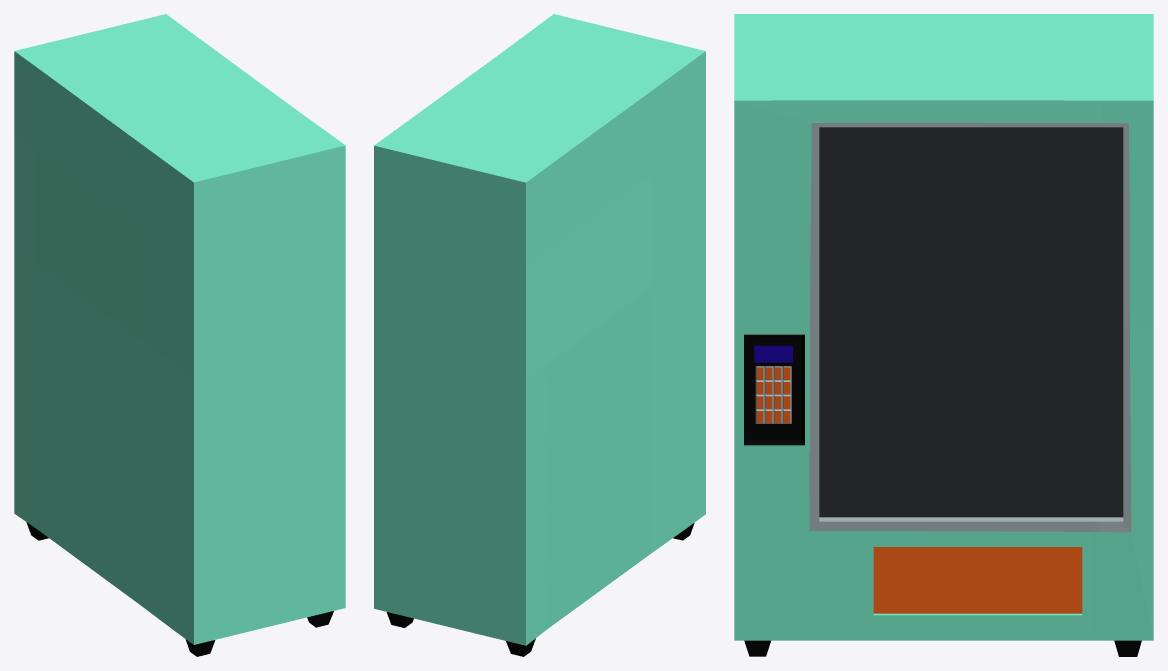
The model's file is vendingmachine.fbx.
The picture shows the model from 3 angles, left to right: view 1: azimuth 30°, elevation 25°; view 2: azimuth 150°, elevation 25°; view 3: azimuth 270°, elevation 25°; orthographic projection. The views are drawn at different scales.
Visible parts, largest first — view 1: Cube; view 2: Cube; view 3: Cube.
Part boxes in pixels (x1,y1,x2,y2): Cube: [14, 14, 345, 656]; Cube: [374, 14, 705, 656]; Cube: [734, 14, 1153, 656].
Bounding box in the file's own units: 128 × 384 × 260.
